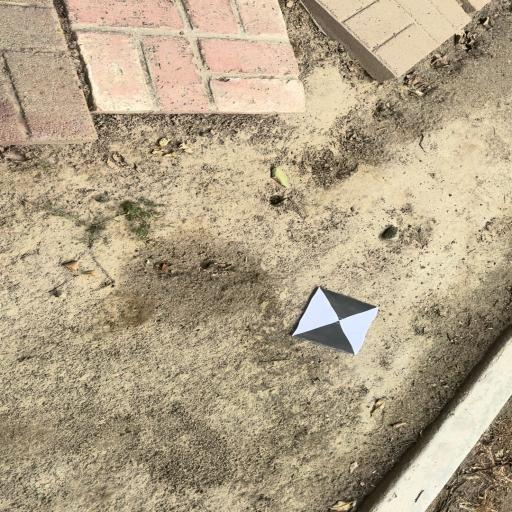target: (291, 287, 379, 355)
